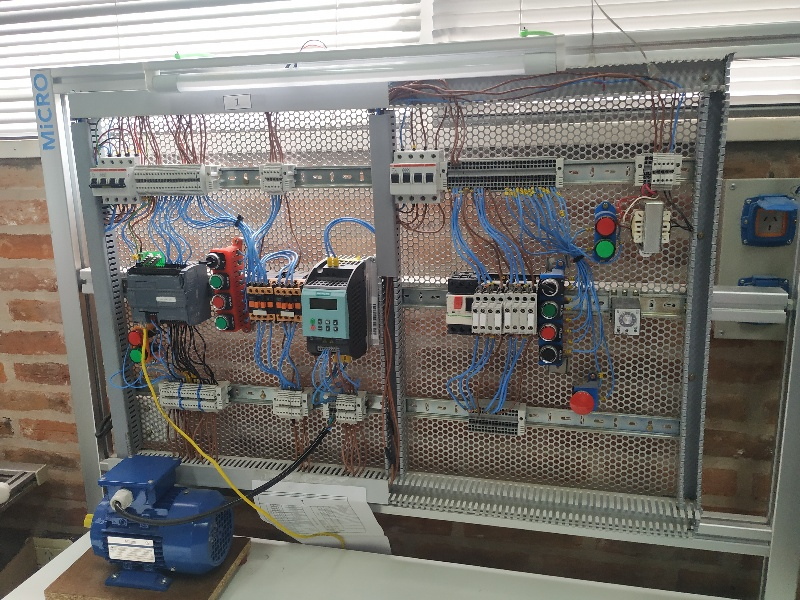Tablero 1: (77, 106, 702, 517)
